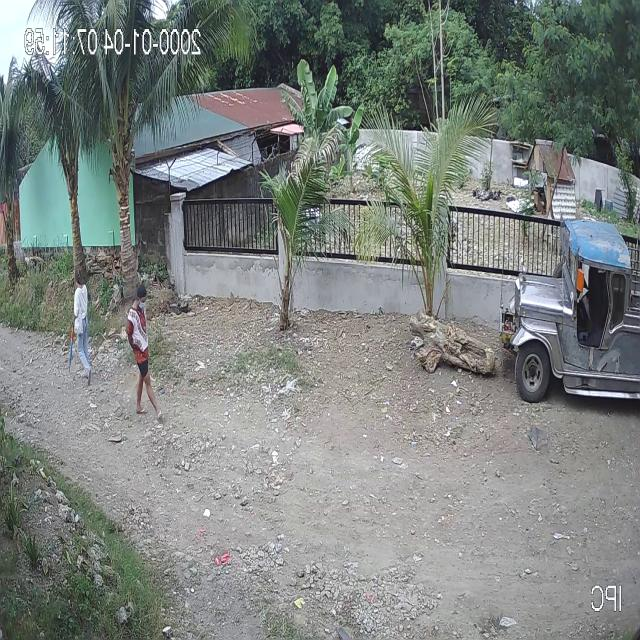walking: (124, 280, 164, 426), (66, 266, 96, 388)
